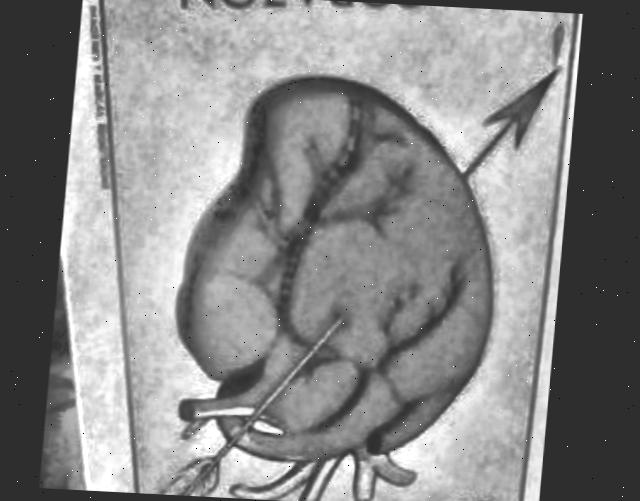El Corazon: (103, 0, 575, 501)
